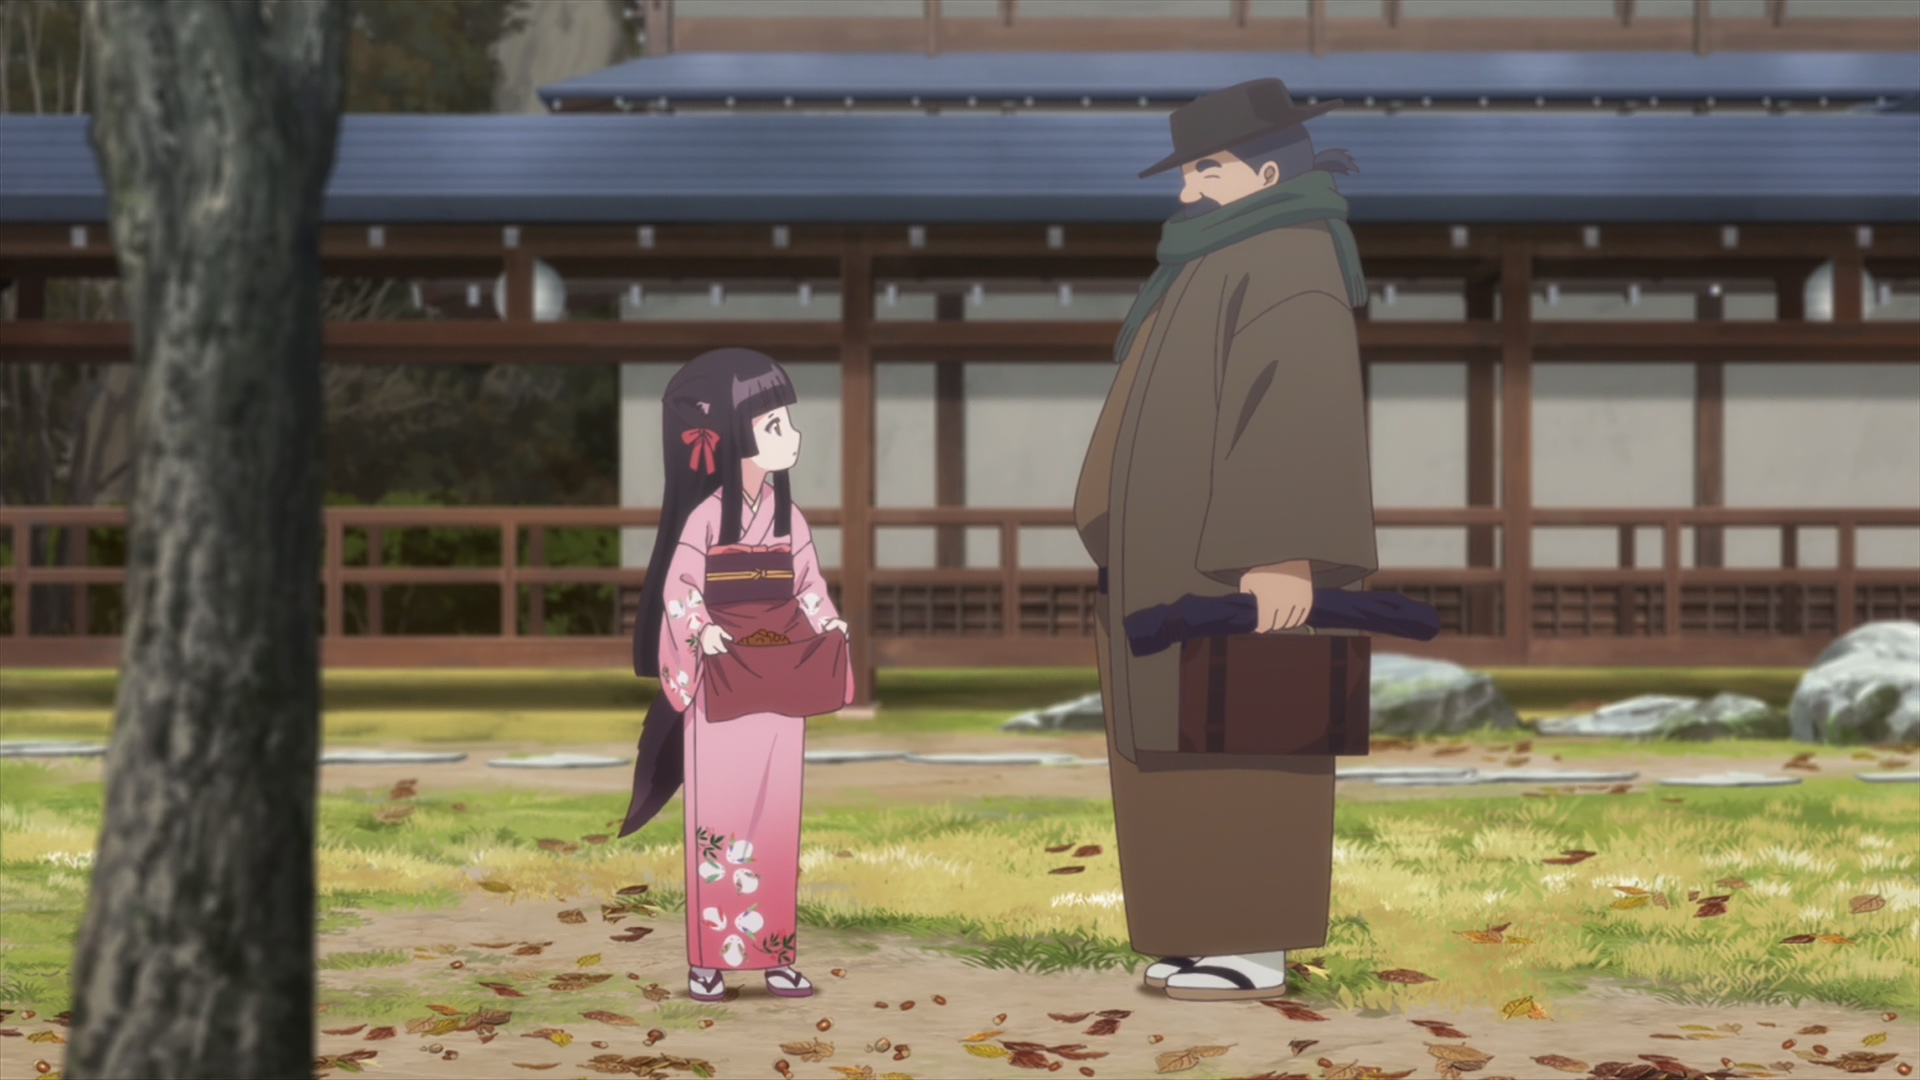其他: (1076, 79, 1375, 1000)
樱: (620, 349, 855, 1002)
